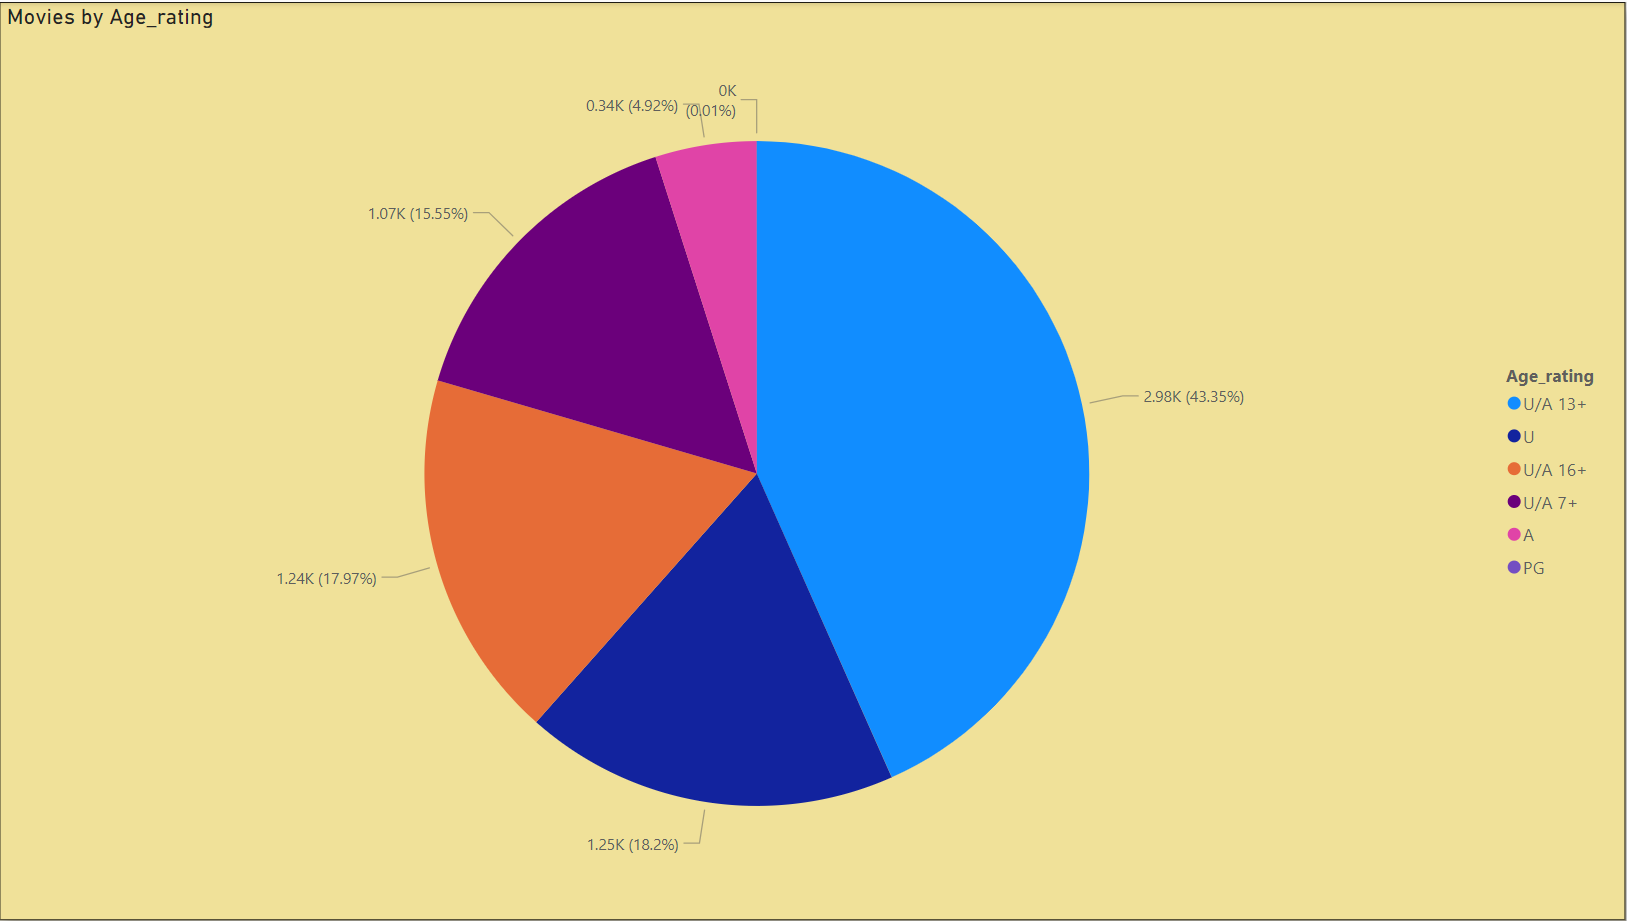

Layout of this report page (visuals, bound fields, positions):
{"tool":"powerbi","page":{"name":"Movies by Age Rating","canvas":[1280,720],"ordinal":4},"visuals":[{"type":"pieChart","fields":{"Category":["hotstar csv.age_rating"],"Y":["CountNonNull(hotstar csv.Title)"]},"box":[10.4,0,1256.1,709.1],"z":0}]}

Visuals, with their boxes in screenshot pixels (x1, y1, x2, y2), scaled from the page's 1280x720 canvas onto the 1627x921 screenshot:
pieChart - hotstar csv.age_rating x CountNonNull(hotstar csv.Title): 13,0,1610,907
